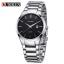watch: (17, 11, 46, 41)
